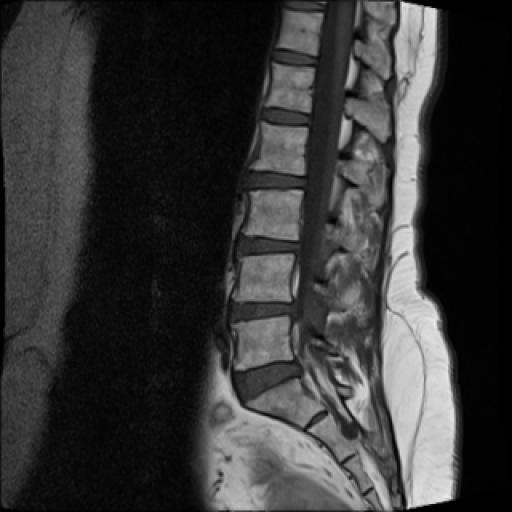L1: (265, 62, 315, 112)
L2: (250, 121, 308, 174)
L3: (243, 191, 303, 240)
L4: (233, 254, 294, 302)
L5: (232, 316, 293, 370)
S1: (243, 375, 324, 428)
